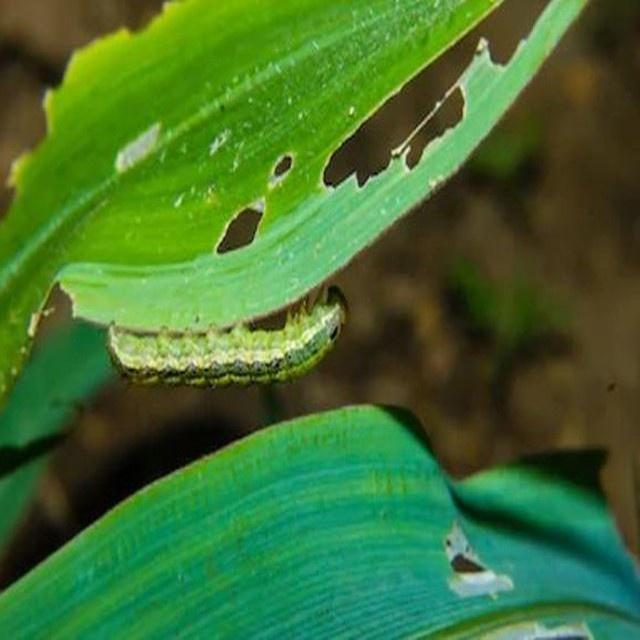gusano_cogollero: (102, 278, 352, 393)
